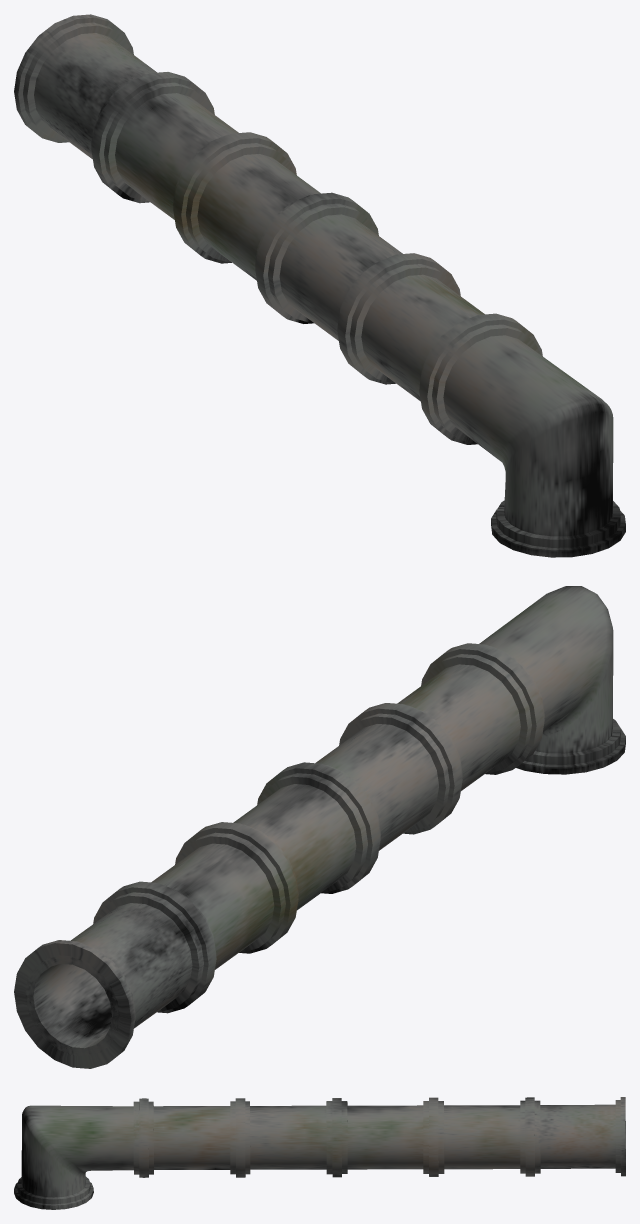
The model's file is GroundPipe 1.fbx.
3 views of the same model, one above another, from view 1: azimuth 30°, elevation 25°; view 2: azimuth 150°, elevation 25°; view 3: azimuth 270°, elevation 25° (orthographic). The views are drawn at different scales.
Parts seen in each view (by area): view 1: Begin_EndPipe; view 2: Begin_EndPipe; view 3: Begin_EndPipe.
Part boxes in pixels (left/top/right/bottom): Begin_EndPipe: left=14, top=14, right=625, bottom=557; Begin_EndPipe: left=14, top=586, right=625, bottom=1068; Begin_EndPipe: left=14, top=1097, right=625, bottom=1209.
Bounding box in the file's own units: 0.0249 × 0.0319 × 0.1902.
Materials: 1 (1 with a texture image).
